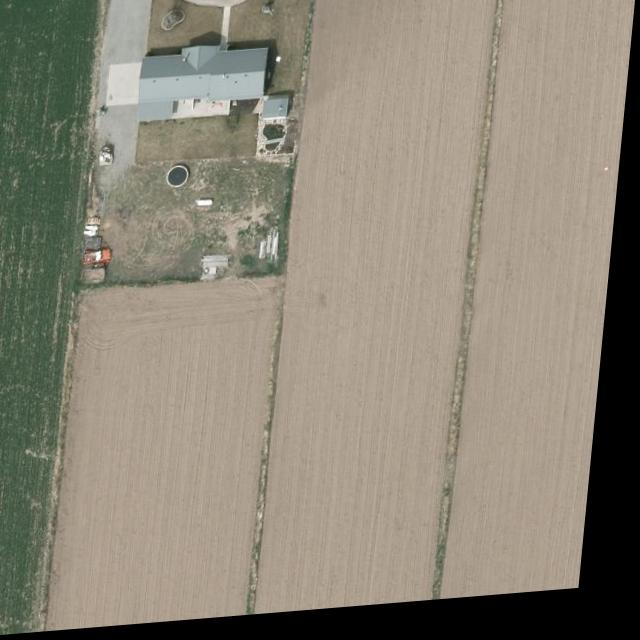vehicle: (86, 249, 118, 270)
